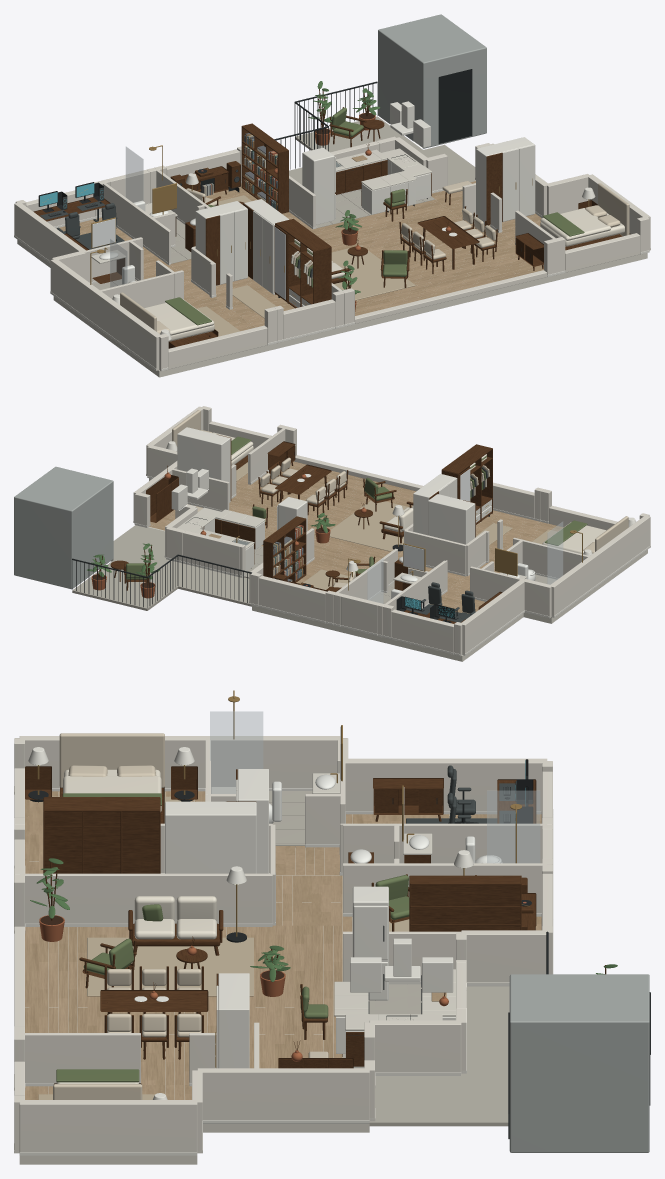
The model's file is house.glb.
The picture shows the model from 3 angles, top to bottom: view 1: azimuth 30°, elevation 25°; view 2: azimuth 150°, elevation 25°; view 3: azimuth 270°, elevation 25°; orthographic projection. The views are drawn at different scales.
Visible parts, largest first — view 1: m-1179cfedf266, m-28df33b60fad, m-3055f61b0b41, m-cecc626802b7, m-de6eeb2a1a0f, m-9ddf82cad46d, m-0fdb8b6f35ed, m-661cd499648b, m-d46807992af7, m-702cb79a443d, m-649327335cfb, m-94cc55bddbeb (+51 smaller); view 2: m-1179cfedf266, m-9ddf82cad46d, m-3055f61b0b41, m-28df33b60fad, m-b8120e83b3cd, m-de6eeb2a1a0f, m-702cb79a443d, m-cecc626802b7, m-359efbdf6d50, m-649327335cfb, m-987b2fac3acf, m-ac39604f3188 (+39 smaller); view 3: m-1179cfedf266, m-9ddf82cad46d, m-de6eeb2a1a0f, m-28df33b60fad, m-81078dccf092, m-bbdcd8346aa5, m-05f6f89c07ba, m-3055f61b0b41, m-cd8da15cfba9, m-0790c423e24d, m-702cb79a443d, m-d46807992af7 (+40 smaller).
Boxes of the visible parts, x1,y1,x2,y2 form: m-1179cfedf266: (378, 14, 486, 148); m-28df33b60fad: (355, 231, 543, 315); m-3055f61b0b41: (50, 259, 161, 370); m-cecc626802b7: (17, 199, 647, 377); m-de6eeb2a1a0f: (310, 199, 474, 259); m-9ddf82cad46d: (289, 116, 475, 185); m-0fdb8b6f35ed: (438, 69, 472, 143); m-661cd499648b: (168, 325, 267, 369); m-d46807992af7: (103, 182, 170, 262); m-702cb79a443d: (14, 203, 85, 261); m-649327335cfb: (331, 245, 415, 300); m-94cc55bddbeb: (302, 147, 334, 224); m-1179cfedf266: (14, 466, 113, 589); m-9ddf82cad46d: (72, 525, 251, 610); m-3055f61b0b41: (549, 516, 650, 616); m-28df33b60fad: (234, 461, 415, 522); m-b8120e83b3cd: (177, 427, 230, 502); m-de6eeb2a1a0f: (232, 500, 402, 568); m-702cb79a443d: (461, 579, 524, 654); m-cecc626802b7: (148, 478, 647, 661); m-359efbdf6d50: (259, 576, 326, 621); m-649327335cfb: (329, 500, 409, 551); m-987b2fac3acf: (428, 494, 475, 544); m-ac39604f3188: (391, 609, 453, 652); m-1179cfedf266: (509, 974, 649, 1152); m-9ddf82cad46d: (369, 986, 509, 1126); m-de6eeb2a1a0f: (201, 925, 342, 1068); m-28df33b60fad: (25, 927, 196, 1084); m-81078dccf092: (20, 873, 272, 923); m-bbdcd8346aa5: (19, 1100, 197, 1152); m-05f6f89c07ba: (197, 1068, 369, 1120); m-3055f61b0b41: (19, 736, 340, 787); m-cd8da15cfba9: (45, 812, 159, 873); m-0790c423e24d: (165, 802, 256, 873); m-702cb79a443d: (343, 758, 547, 810); m-d46807992af7: (343, 823, 546, 863).
Size of what is drawn, in the model's own units: 16.21 by 2.93 by 11.83.
37 materials, 13 textured.
